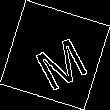M_NW: (23, 22, 87, 88)
